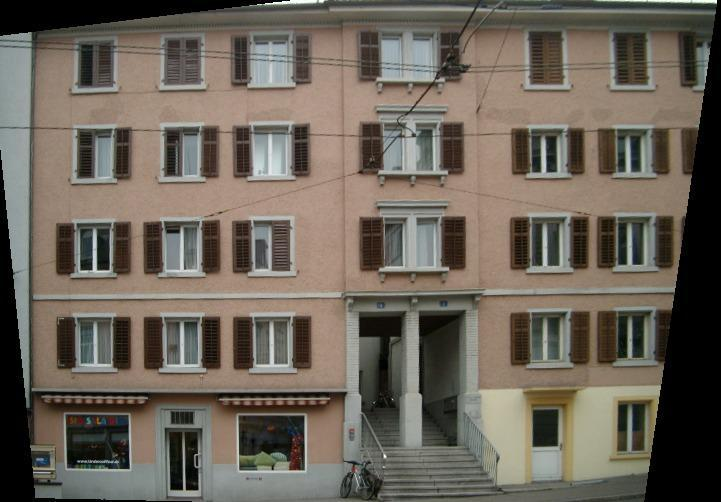window: (618, 401, 655, 456), (529, 31, 564, 85), (531, 217, 568, 268), (617, 218, 654, 269), (617, 311, 654, 362), (531, 312, 567, 364), (613, 33, 648, 86), (254, 221, 290, 272), (254, 35, 290, 85), (78, 40, 114, 90), (77, 129, 113, 179), (164, 127, 200, 177), (165, 223, 201, 273), (76, 317, 112, 367), (166, 318, 202, 368), (256, 318, 292, 368), (166, 38, 202, 87), (253, 126, 289, 175), (76, 224, 112, 273), (530, 128, 566, 176), (618, 130, 651, 175), (383, 218, 408, 270), (416, 218, 440, 268), (413, 31, 435, 81), (383, 33, 405, 79), (383, 124, 405, 170), (415, 125, 437, 171), (171, 412, 196, 425)
